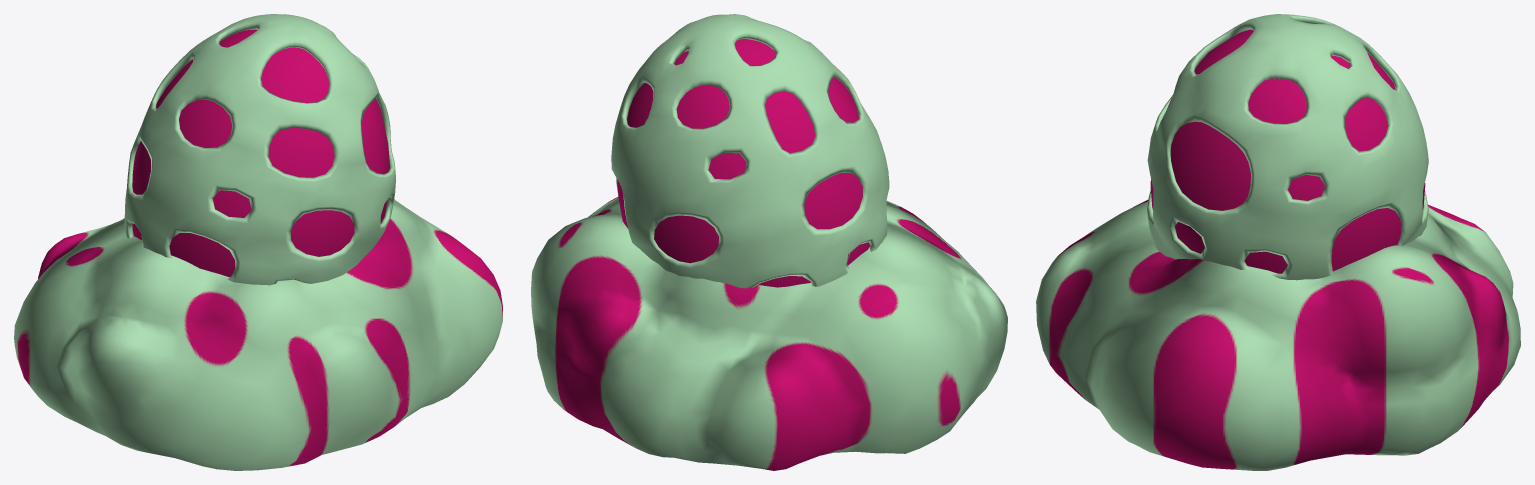
The model's file is AlienEggBlob.fbx.
The picture shows the model from 3 angles, left to right: view 1: azimuth 30°, elevation 25°; view 2: azimuth 150°, elevation 25°; view 3: azimuth 270°, elevation 25°; orthographic projection. The views are drawn at different scales.
Parts seen in each view (by area): view 1: polySurface7; view 2: polySurface7; view 3: polySurface7.
Part boxes in pixels (x1,y1,x2,y2): polySurface7: [14, 14, 502, 470]; polySurface7: [531, 14, 1007, 470]; polySurface7: [1036, 14, 1520, 470].
Size of the model in its own units: 3.76 by 3.09 by 3.53.
